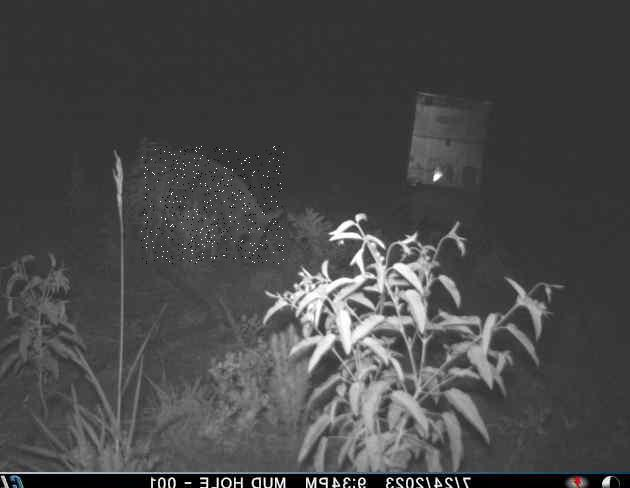Hog: (140, 147, 283, 265)
